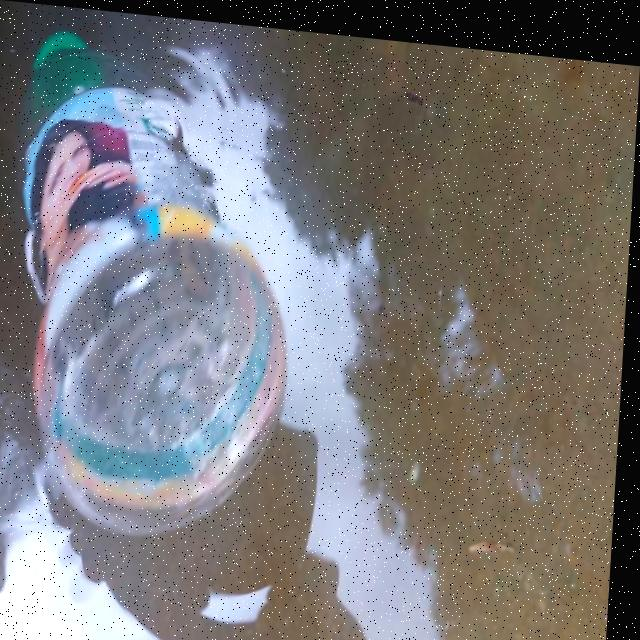waterbottle: (0, 8, 310, 543)
